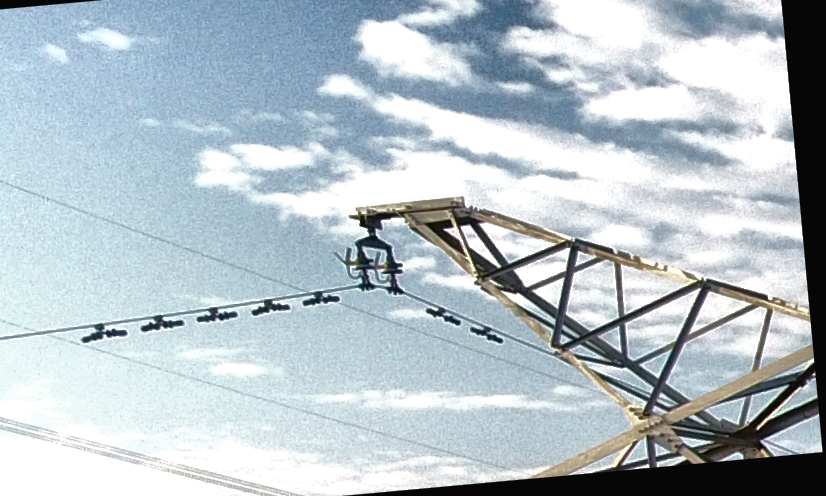damper: (78, 321, 130, 346), (137, 311, 185, 333), (248, 295, 293, 318), (192, 304, 238, 324), (423, 304, 462, 326), (297, 288, 342, 307), (467, 323, 504, 346)
